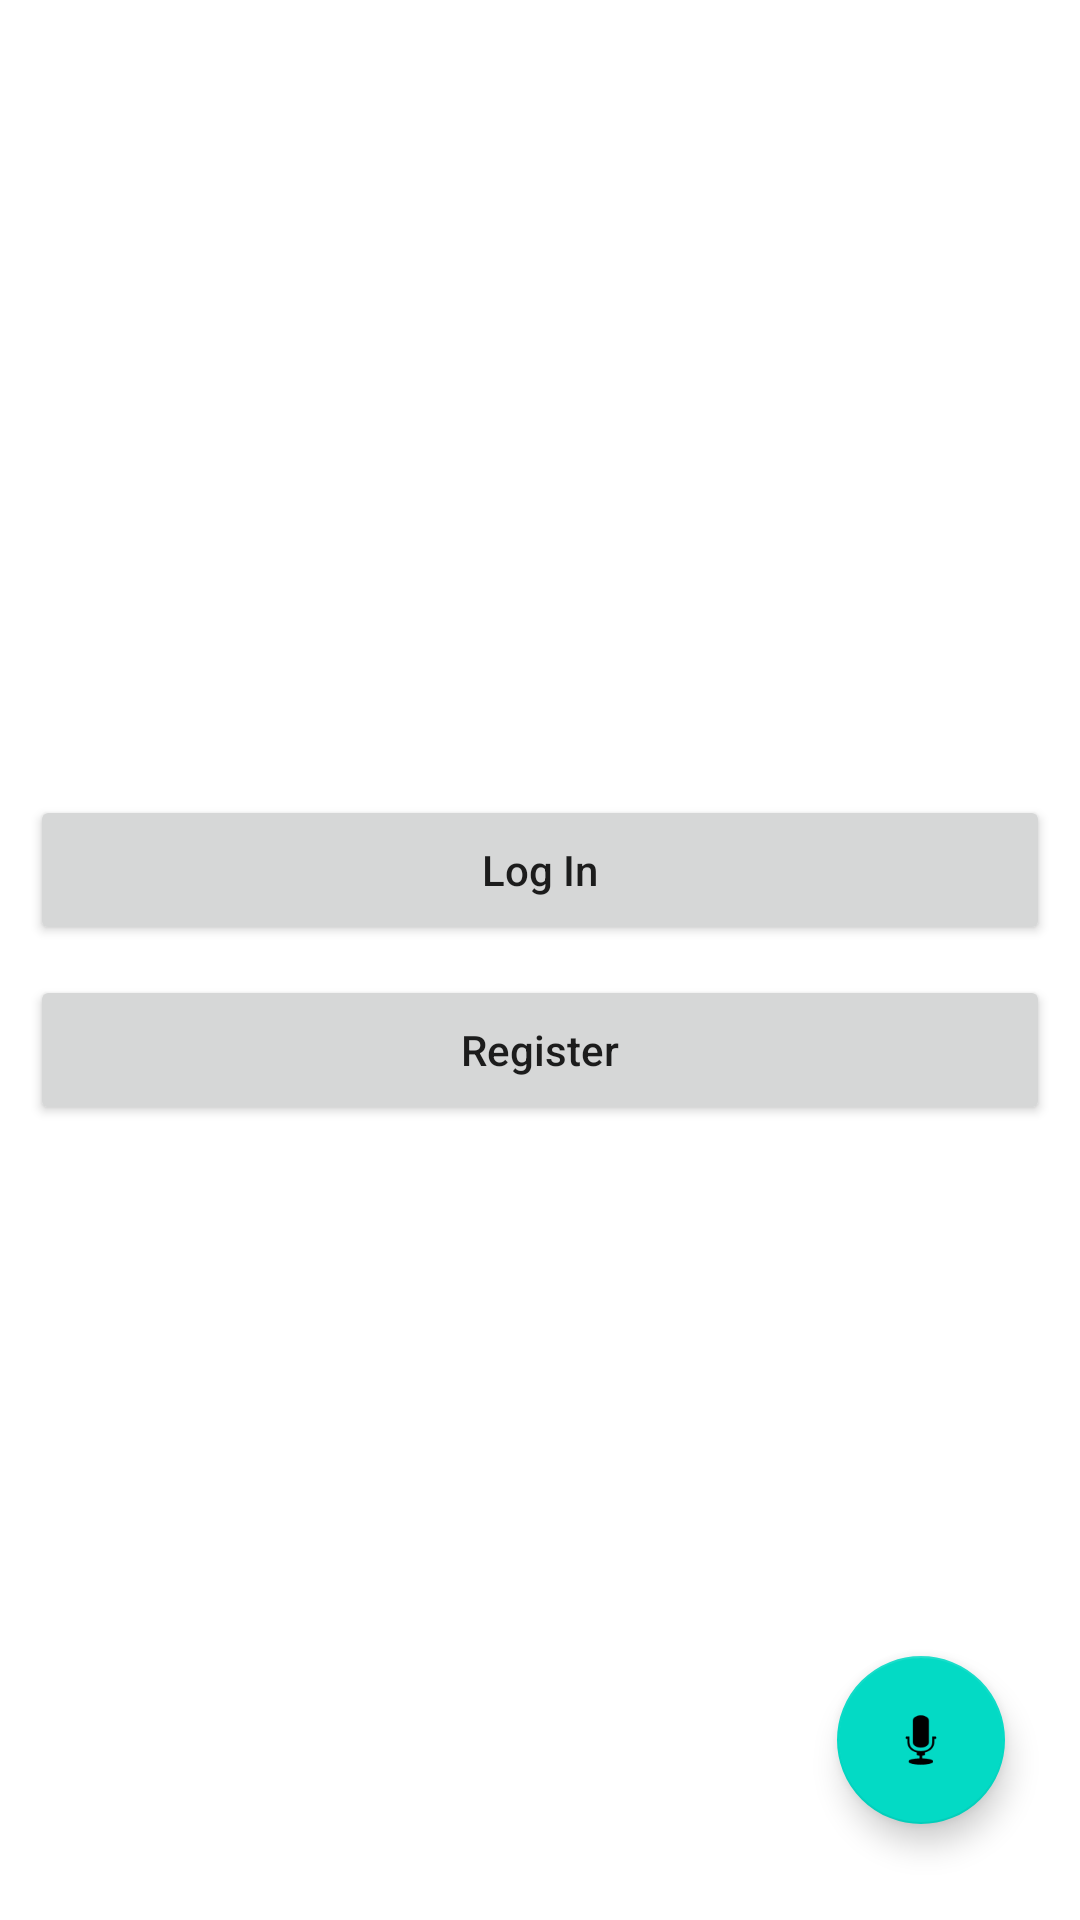

Icon click points for this 1080px×1920px phone screenshot, format [x,y]:
speak now: [921,1740]
